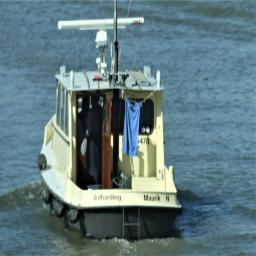tugboat: (37, 16, 186, 249)
